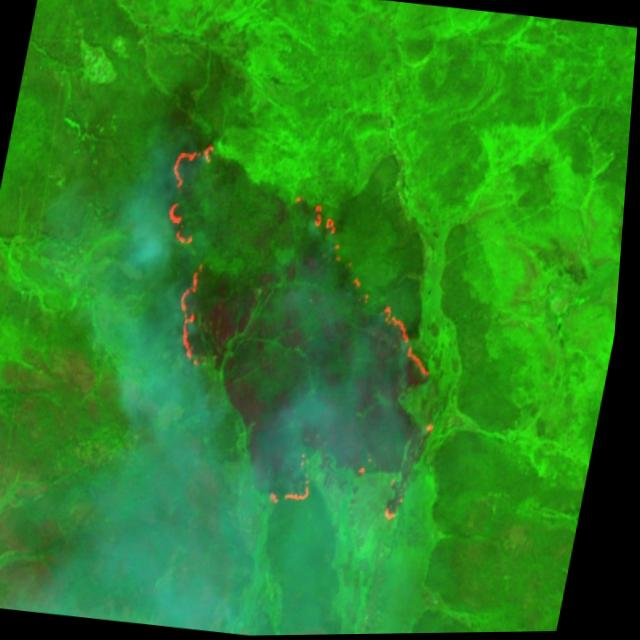fire: (112, 133, 491, 537)
